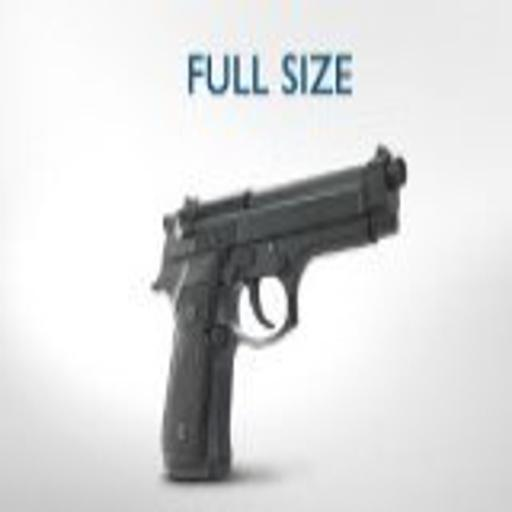Handgun: (139, 135, 418, 485)
